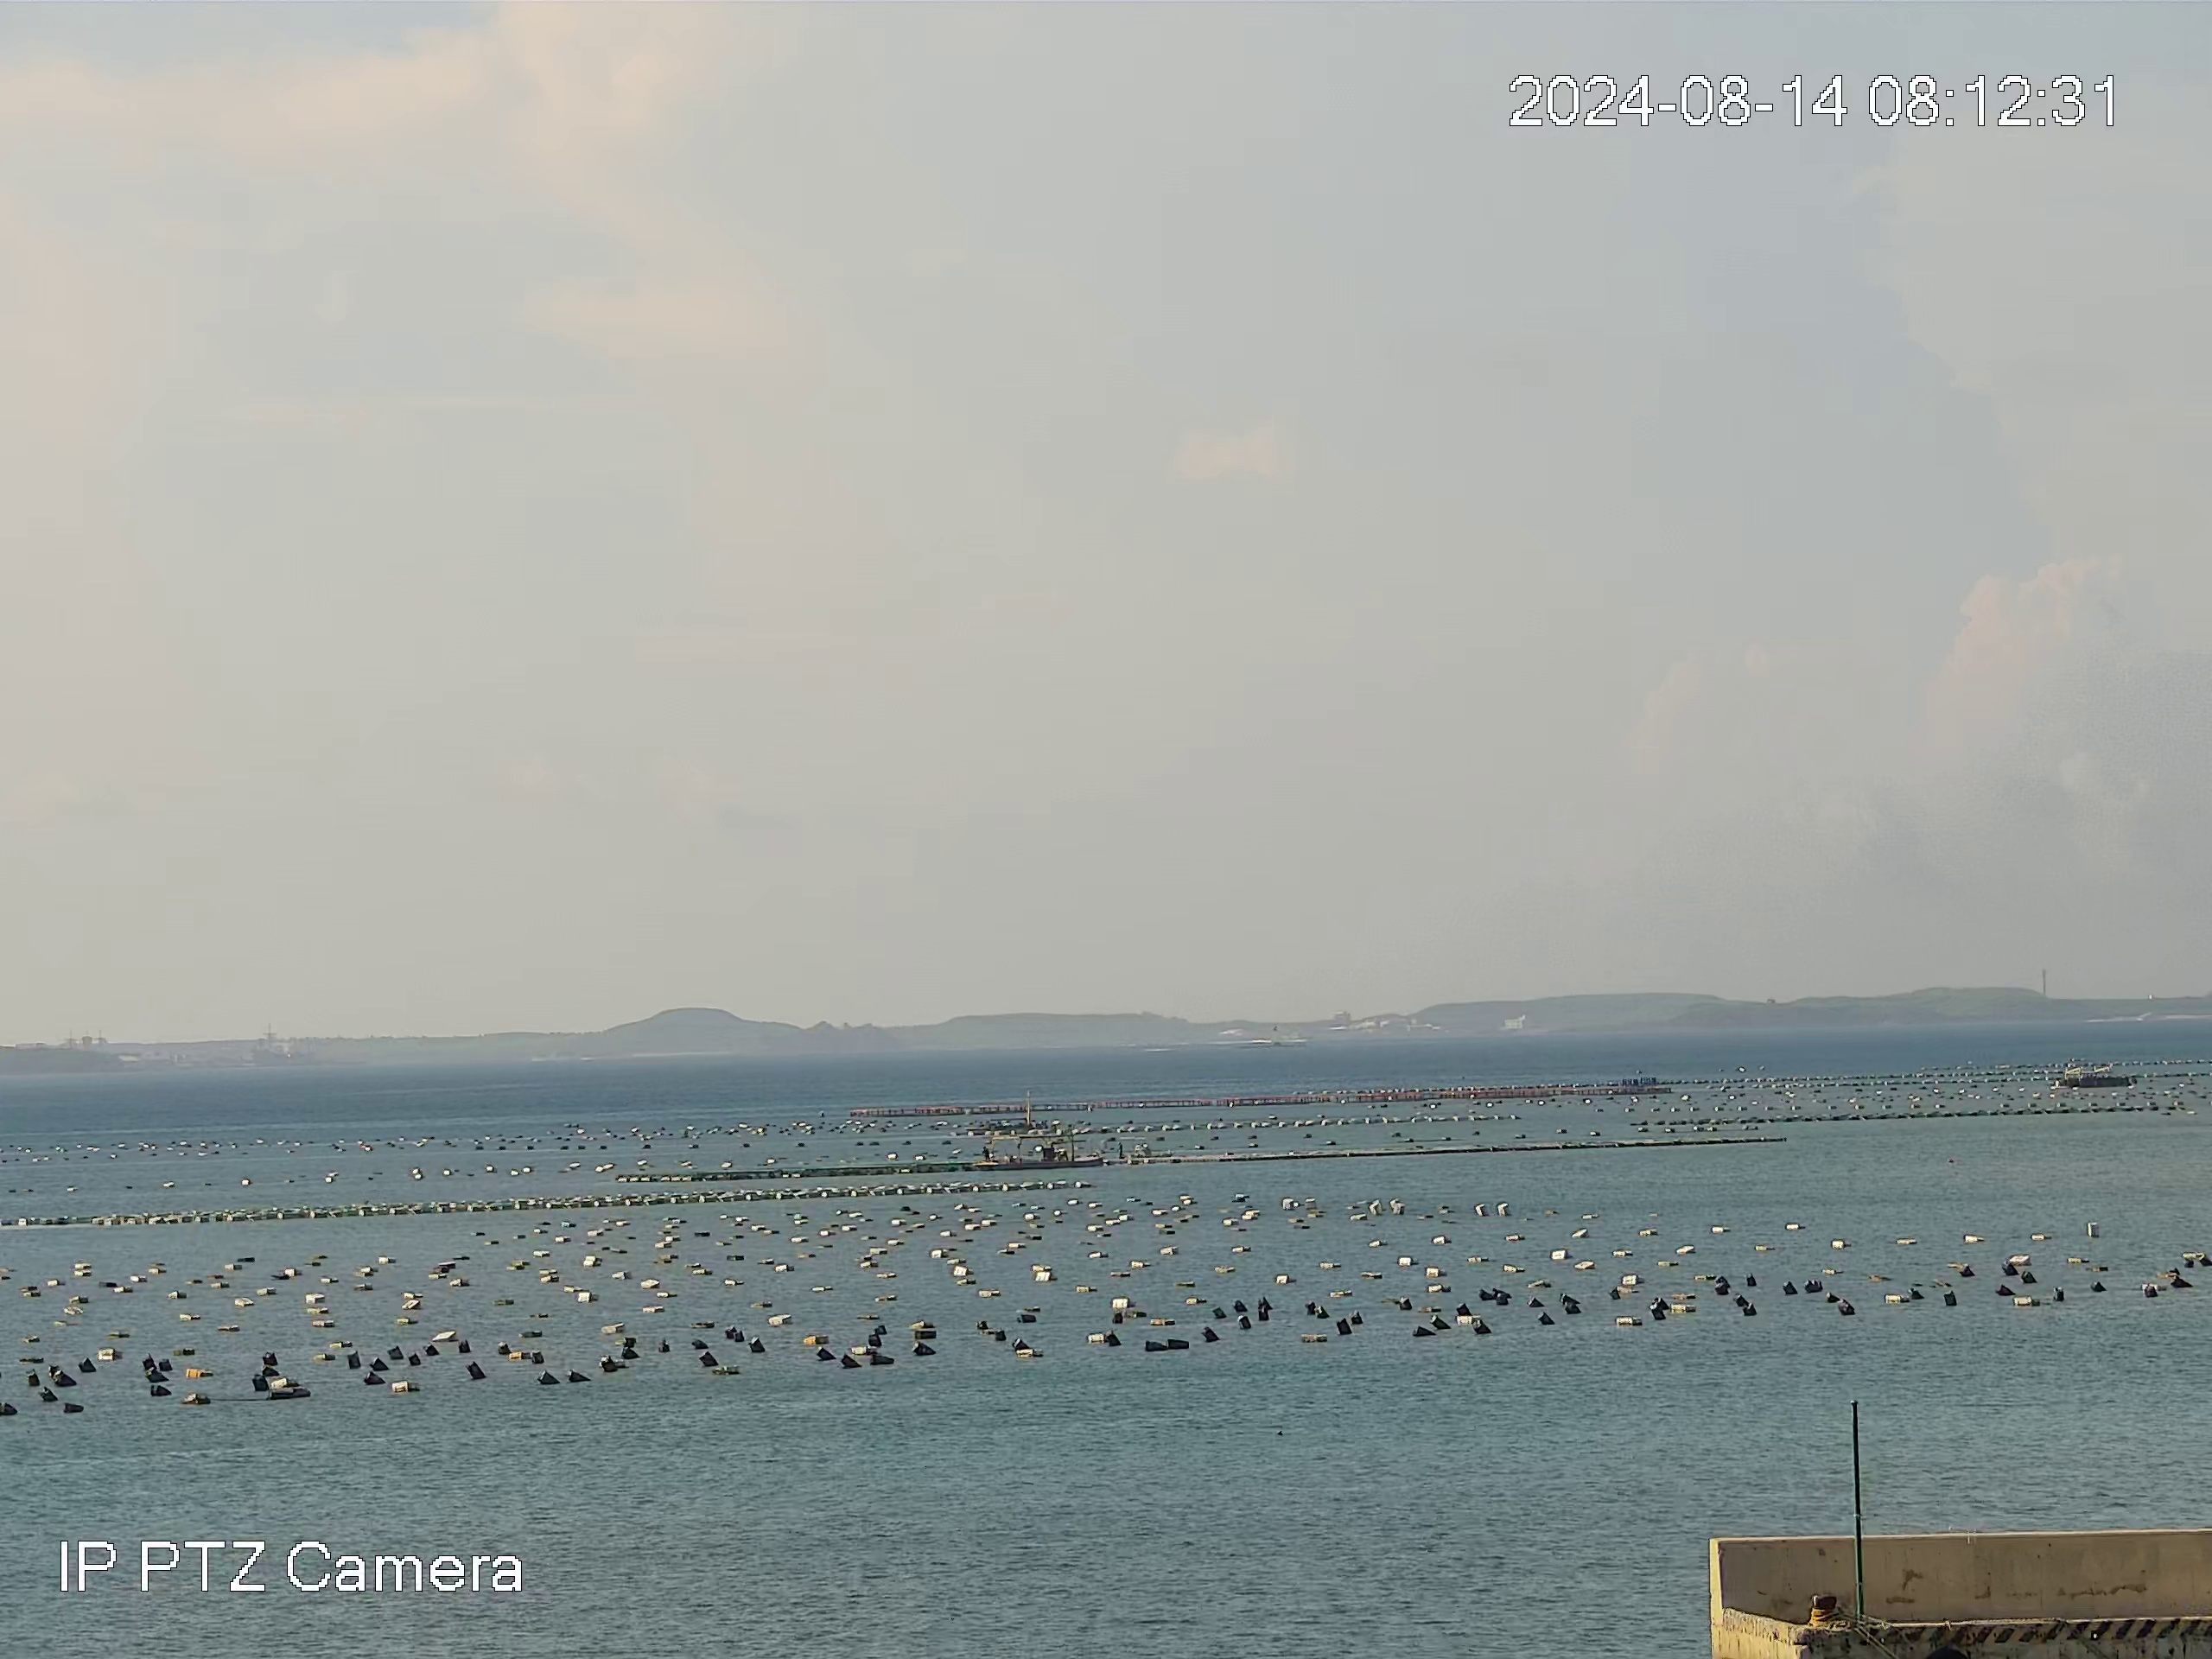boat: (979, 1129, 1101, 1166), (2057, 1063, 2142, 1091)
